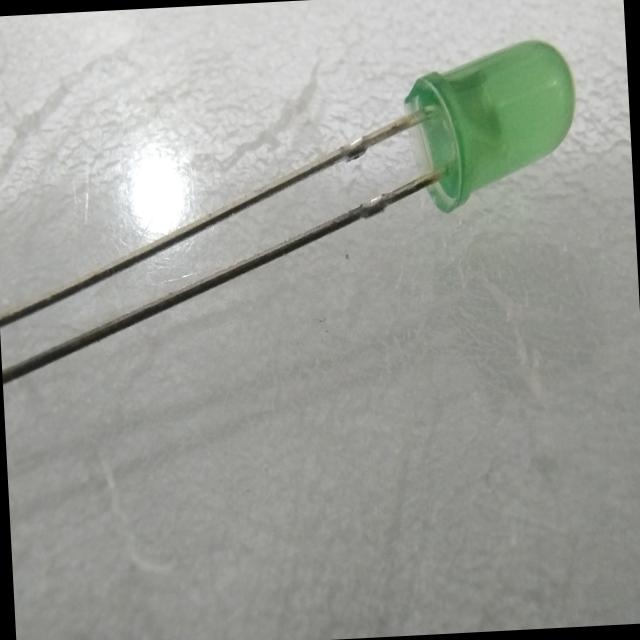green_led: (402, 28, 596, 228)
